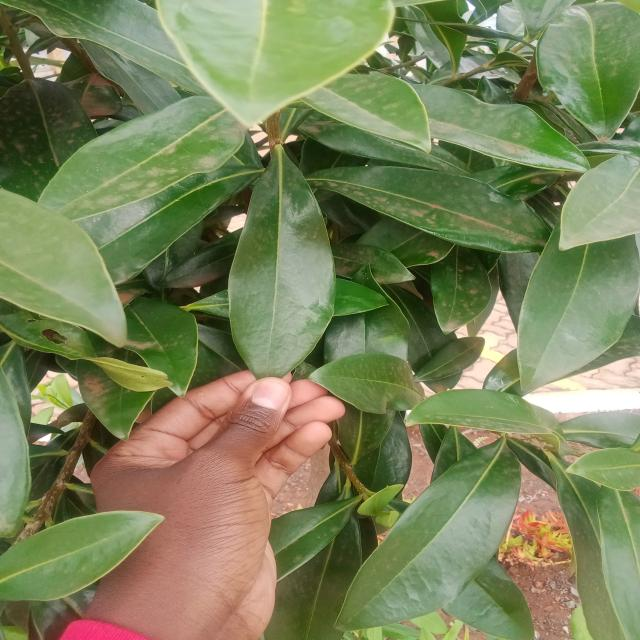Syzygium guinesis: (1, 0, 640, 361)
